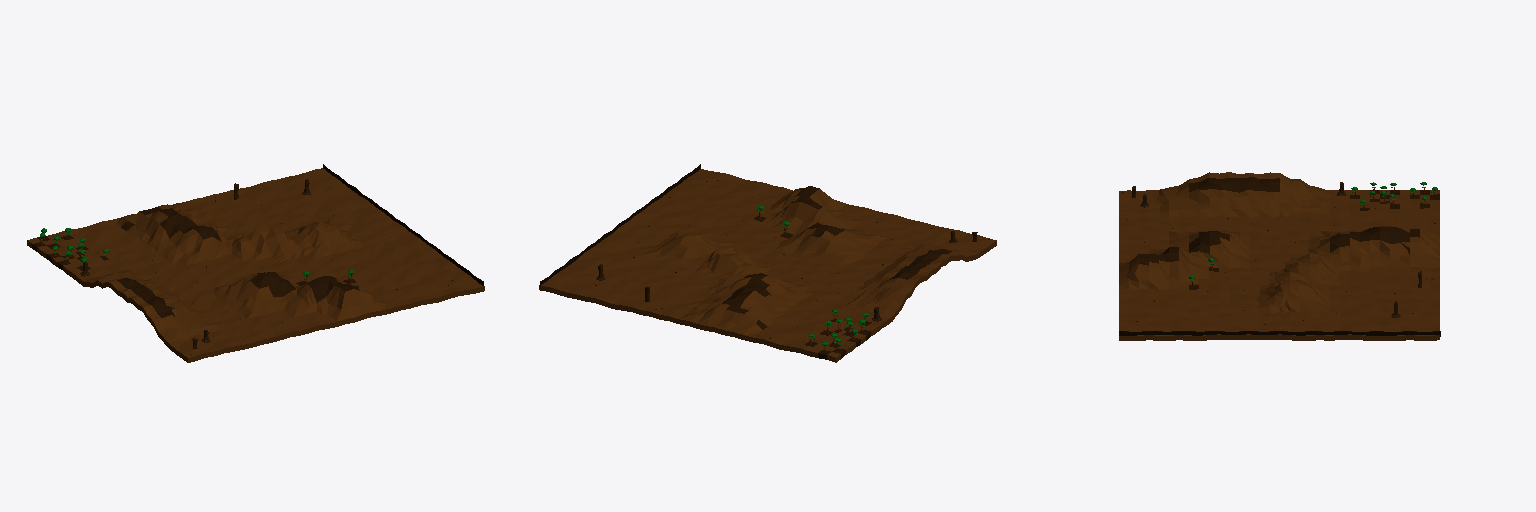
Rendered from LandofEdom.obj.
3 renders of one model, left to right at view 1: azimuth 30°, elevation 25°; view 2: azimuth 150°, elevation 25°; view 3: azimuth 270°, elevation 25°, orthographic.
Parts seen in each view (by area): view 1: Plane_Plane.001, Cube; view 2: Plane_Plane.001, Cube; view 3: Plane_Plane.001, Cube.
Boxes of the visible parts, x1=… form: Plane_Plane.001: x1=27, y1=168, x2=484, y2=362; Cube: x1=323, y1=164, x2=483, y2=285; Plane_Plane.001: x1=539, y1=169, x2=996, y2=362; Cube: x1=540, y1=164, x2=700, y2=286; Plane_Plane.001: x1=1119, y1=172, x2=1439, y2=340; Cube: x1=1119, y1=331, x2=1440, y2=336.
Size of the model in its own units: 432 by 35.51 by 406.